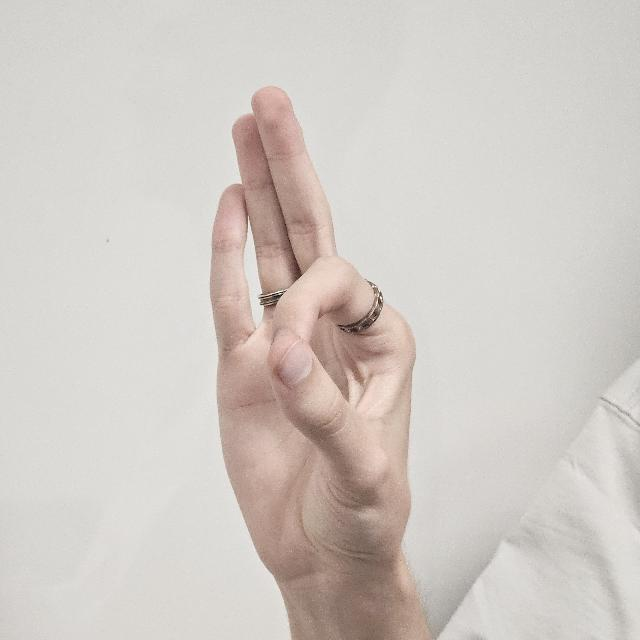Bolinha: (208, 84, 412, 604)
